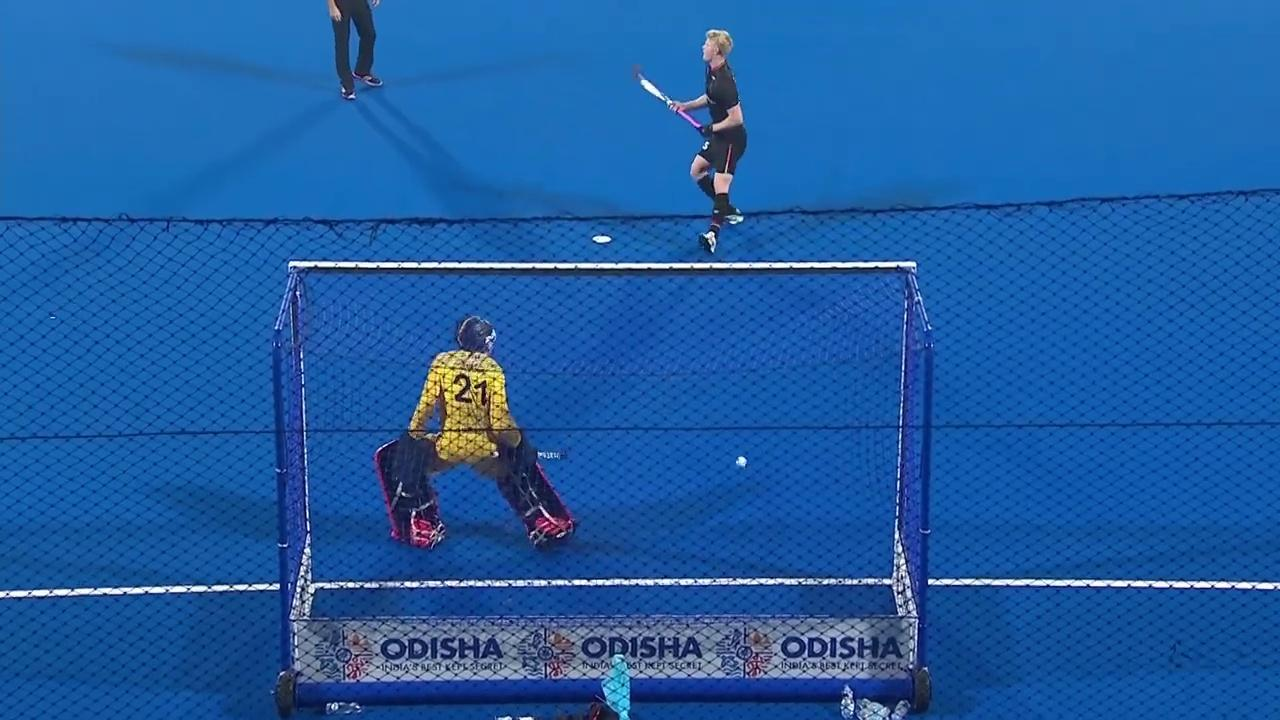ball: (730, 451, 754, 471)
